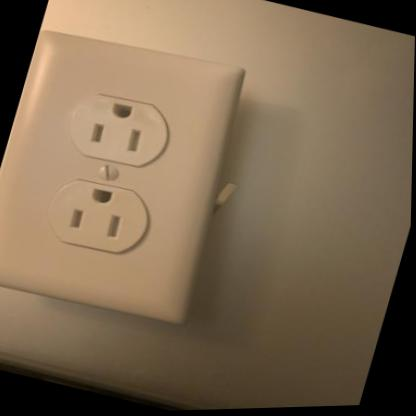OUTLET: (0, 18, 256, 333)
